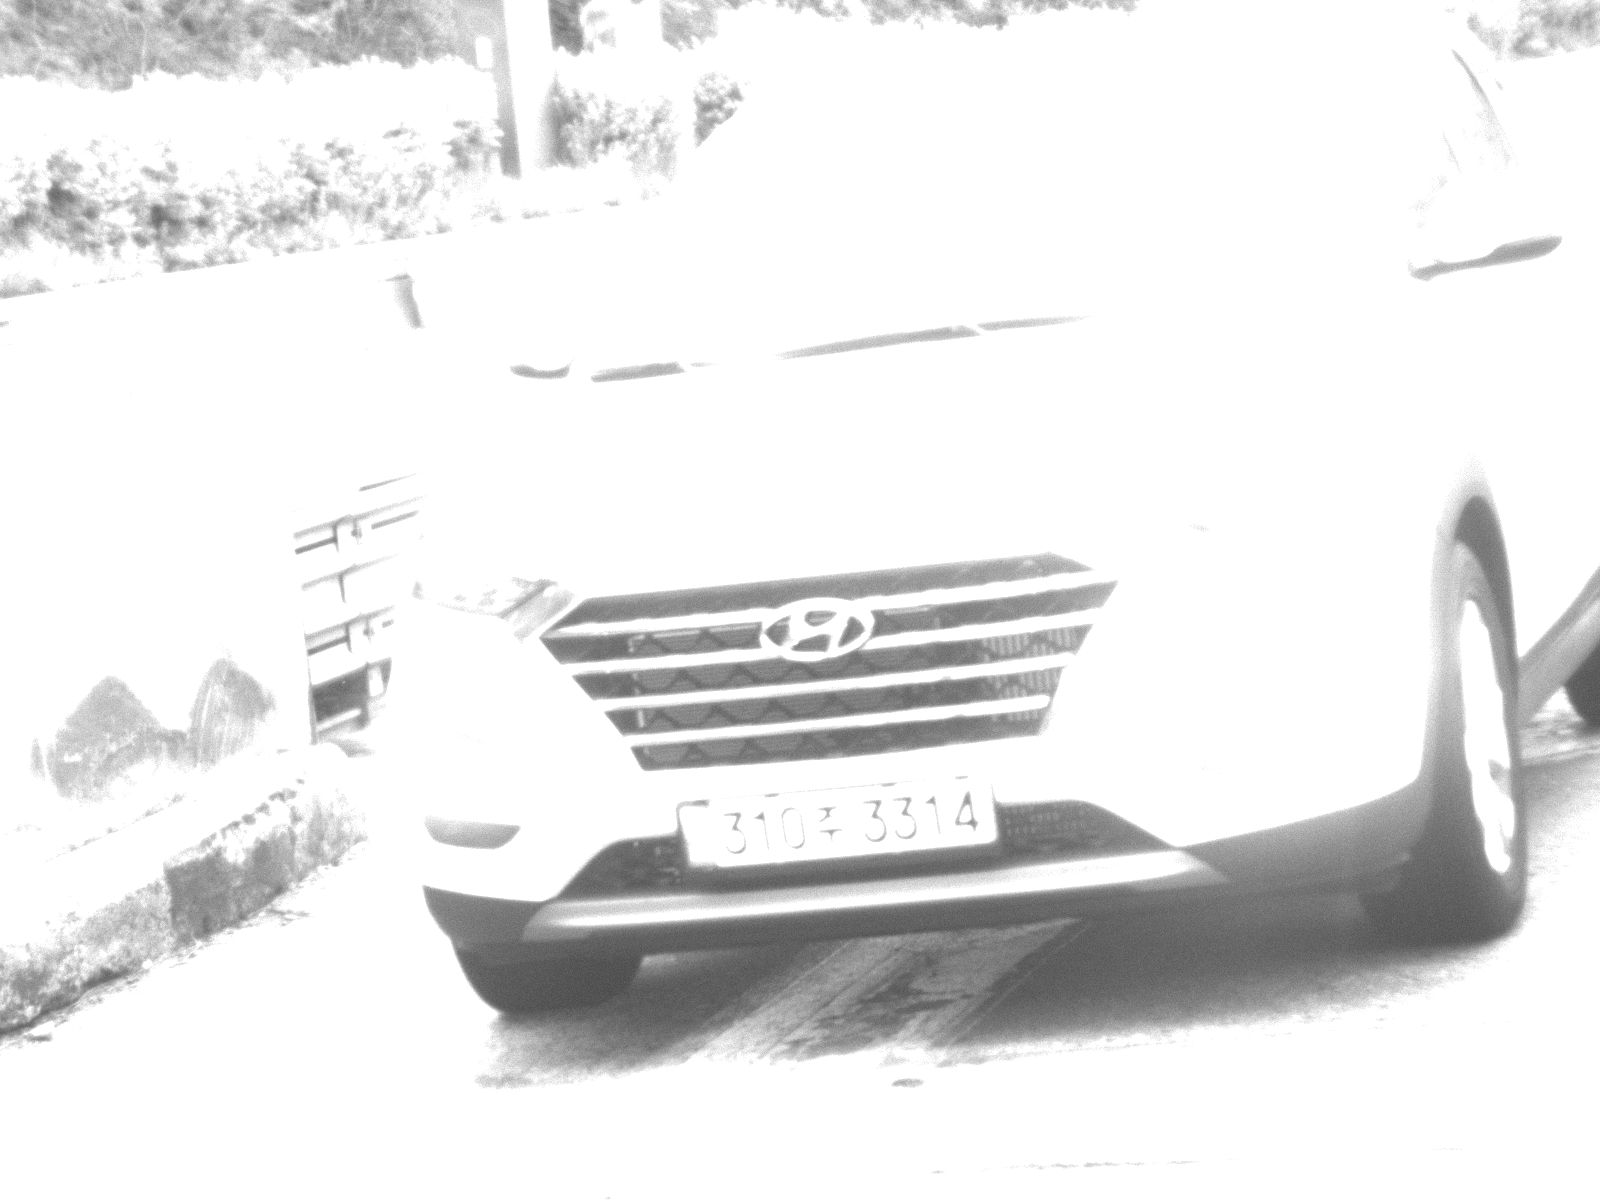car: (395, 1, 1599, 1015)
plate: (673, 765, 1006, 876)
